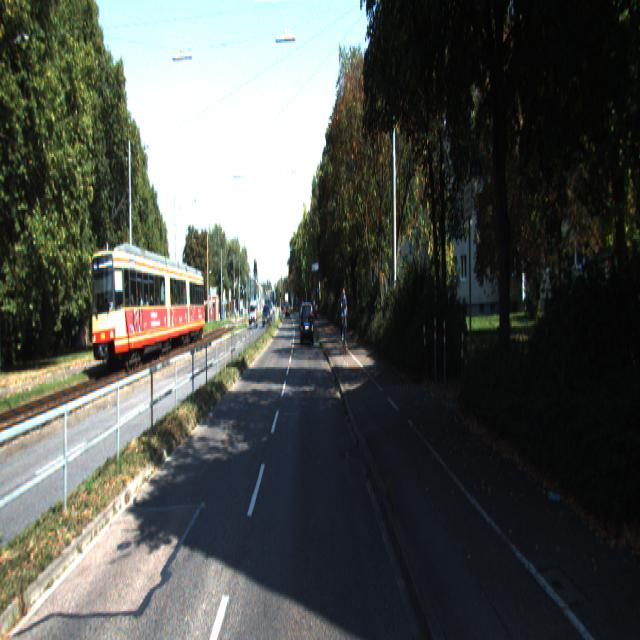Car: (91, 244, 205, 374), (300, 302, 314, 347)
